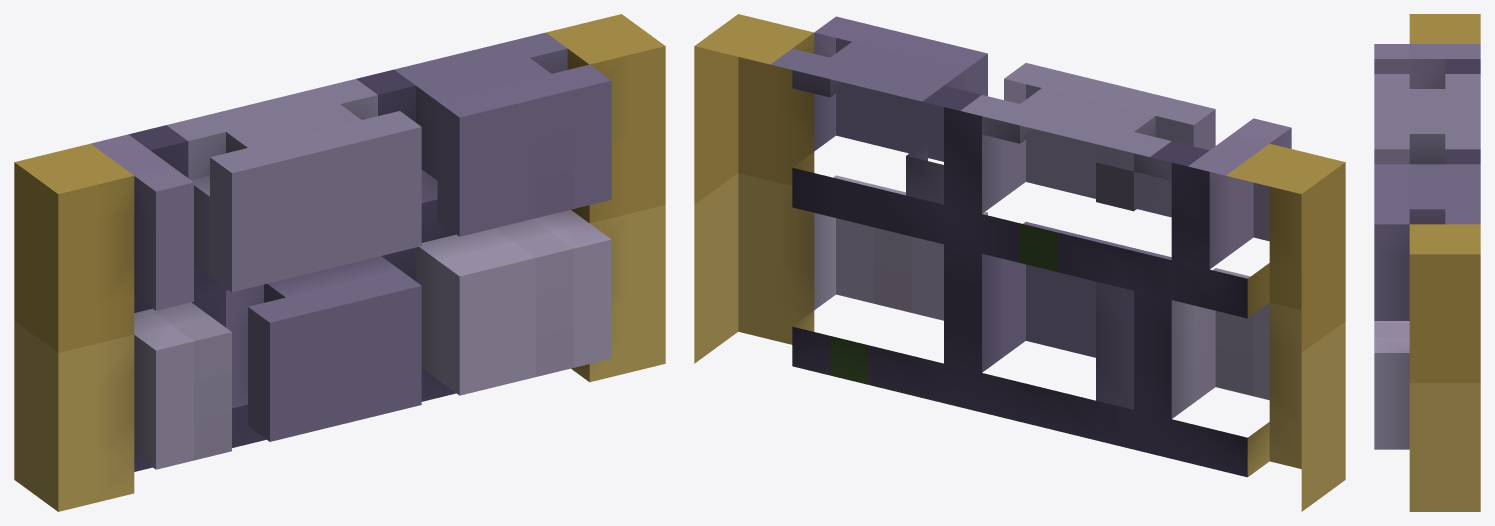
Rendered from wall_plain_0.glb.
3 renders of one model, left to right at view 1: azimuth 30°, elevation 25°; view 2: azimuth 150°, elevation 25°; view 3: azimuth 270°, elevation 25°, orthographic. The views are drawn at different scales.
Parts seen in each view (by area): view 1: wall_plain_0; view 2: wall_plain_0; view 3: wall_plain_0.
Part boxes in pixels (x1,y1,x2,y2): wall_plain_0: (14, 14, 665, 511); wall_plain_0: (694, 14, 1345, 511); wall_plain_0: (1374, 14, 1480, 511).
Size of the model in its own units: 1 by 0.5 by 0.1875.
